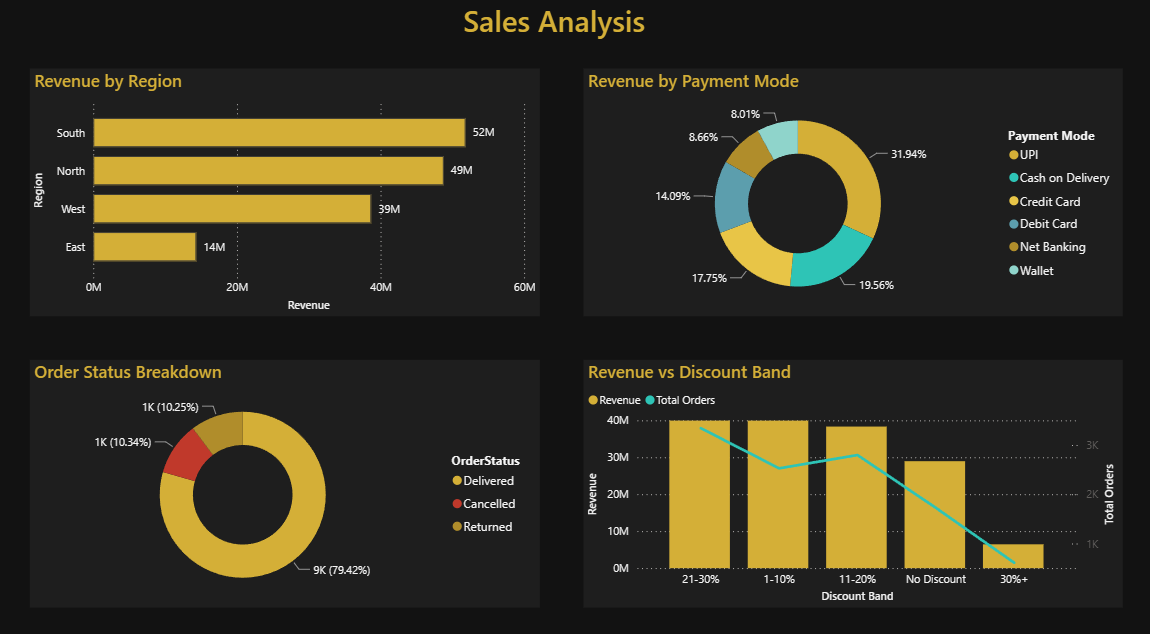

This screenshot's page, from the dashboard's own definition file:
{"tool":"powerbi","page":{"name":"Sales Analysis","canvas":[1280,720],"ordinal":1},"visuals":[{"type":"textbox","box":[224,0,800,52],"z":0},{"type":"clusteredBarChart","fields":{"Category":["Customers.Region"],"Y":["Measure_Tab.Revenue"]},"box":[48,80,560,272],"z":1000},{"type":"donutChart","fields":{"Category":["Orders.PaymentMode"],"Y":["Measure_Tab.Revenue"]},"box":[656,80,592,272],"z":2000},{"type":"lineClusteredColumnComboChart","title":"Revenue vs Discount Band","fields":{"Category":["Orders.DiscountBand"],"Y":["Measure_Tab.Revenue"],"Y2":["Measure_Tab.Total Orders"]},"box":[656,400,592,272],"z":3000},{"type":"donutChart","title":"Order Status Breakdown","fields":{"Category":["Orders.OrderStatus"],"Y":["Measure_Tab.Total Orders"]},"box":[48,400,560,272],"z":4000}]}

Visuals, with their boxes in screenshot pixels (x1, y1, x2, y2), scaled from the page's 1280x720 canvas onto the 1150x634 screenshot:
textbox: [201, 0, 920, 46]
clusteredBarChart - Customers.Region x Measure_Tab.Revenue: [43, 70, 546, 310]
donutChart - Orders.PaymentMode x Measure_Tab.Revenue: [589, 70, 1121, 310]
"Revenue vs Discount Band" lineClusteredColumnComboChart: [589, 352, 1121, 592]
"Order Status Breakdown" donutChart: [43, 352, 546, 592]
